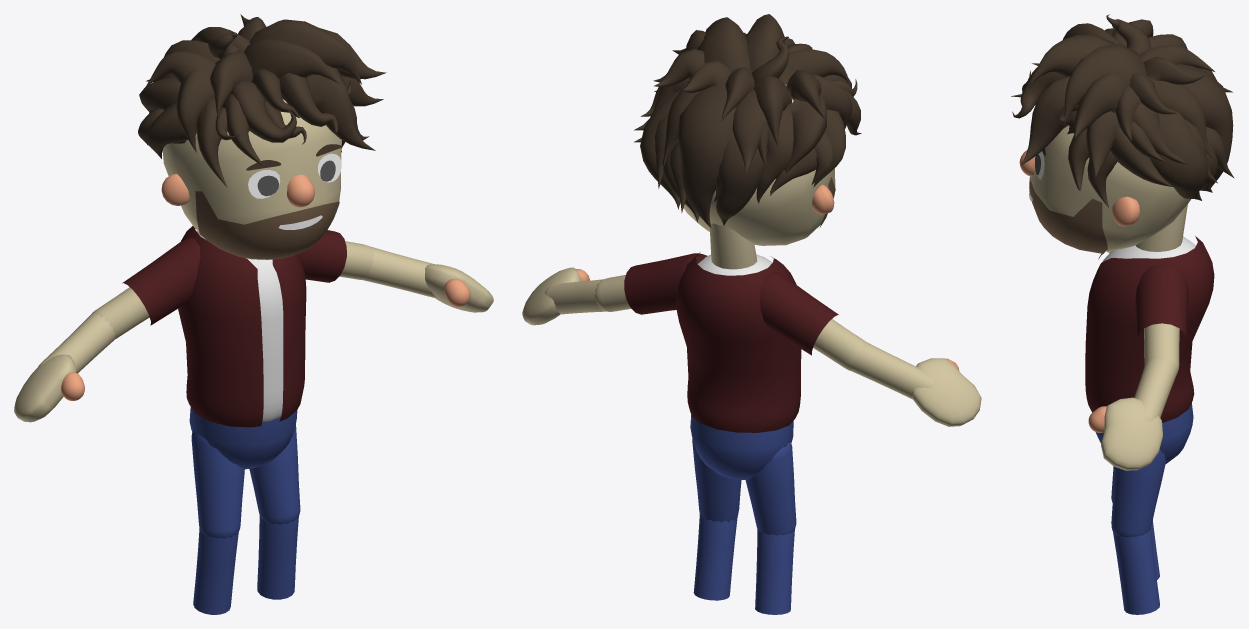
The model's file is skye.glb.
3 views of the same model, side by side, from view 1: azimuth 30°, elevation 25°; view 2: azimuth 150°, elevation 25°; view 3: azimuth 270°, elevation 25° (orthographic). The views are drawn at different scales.
Visible parts, largest first — view 1: Sphere014, Sphere007, Sphere010, Sphere012, Sphere003, Sphere015, Sphere002, Sphere006, Sphere004, Sphere001, Sphere005, BezierCurve011 (+16 smaller); view 2: Sphere014, Sphere003, Sphere012, Sphere010, Sphere007, BezierCurve029, Sphere002, Sphere004, Sphere006, Sphere005, BezierCurve040, BezierCurve011 (+19 smaller); view 3: Sphere014, Sphere007, Sphere002, Sphere010, Sphere012, Sphere003, BezierCurve036, BezierCurve011, Sphere015, BezierCurve029, BezierCurve, BezierCurve026 (+27 smaller).
Part boxes in pixels (bbox=[...]): Sphere014: bbox=[178, 226, 306, 427]; Sphere007: bbox=[162, 99, 341, 231]; Sphere010: bbox=[191, 424, 300, 538]; Sphere012: bbox=[193, 515, 298, 614]; Sphere003: bbox=[122, 230, 346, 325]; Sphere015: bbox=[195, 191, 339, 259]; Sphere002: bbox=[14, 264, 493, 422]; Sphere006: bbox=[37, 247, 435, 373]; Sphere004: bbox=[189, 407, 297, 469]; Sphere001: bbox=[197, 231, 283, 421]; Sphere005: bbox=[92, 241, 373, 339]; BezierCurve011: bbox=[249, 19, 361, 84]; Sphere014: bbox=[676, 252, 801, 432]; Sphere003: bbox=[624, 253, 838, 355]; Sphere012: bbox=[693, 514, 794, 614]; Sphere010: bbox=[692, 438, 796, 535]; Sphere007: bbox=[680, 84, 835, 245]; BezierCurve029: bbox=[678, 69, 753, 227]; Sphere002: bbox=[522, 267, 981, 426]; Sphere004: bbox=[690, 415, 793, 479]; Sphere006: bbox=[544, 279, 934, 399]; Sphere005: bbox=[594, 275, 866, 370]; BezierCurve040: bbox=[716, 129, 767, 225]; BezierCurve011: bbox=[697, 17, 750, 71]; Sphere014: bbox=[1085, 236, 1214, 422]; Sphere007: bbox=[1029, 125, 1190, 251]; Sphere002: bbox=[1101, 250, 1162, 470]; Sphere010: bbox=[1111, 449, 1166, 537]; Sphere012: bbox=[1113, 520, 1159, 614]; Sphere003: bbox=[1135, 236, 1188, 340]; BezierCurve036: bbox=[1150, 107, 1207, 200]; BezierCurve011: bbox=[1064, 43, 1146, 124]; Sphere015: bbox=[1029, 178, 1107, 253]; BezierCurve029: bbox=[1176, 64, 1233, 187]; BezierCurve: bbox=[1020, 76, 1076, 165]; BezierCurve026: bbox=[1030, 34, 1114, 83].
Size of the model in its own units: 714 by 853 by 307.
